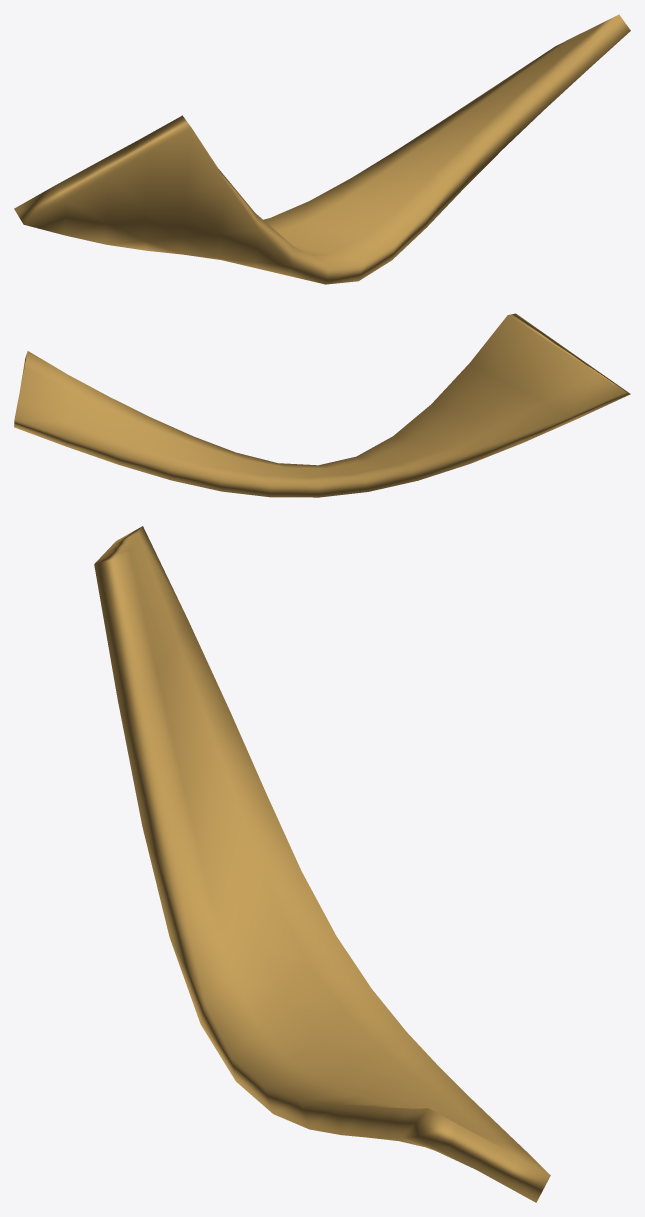
3 views of the same model, one above another, from view 1: azimuth 30°, elevation 25°; view 2: azimuth 150°, elevation 25°; view 3: azimuth 270°, elevation 25° (orthographic). The views are drawn at different scales.
Visible parts, largest first — view 1: 右侧舟三角掌侧韧带; view 2: 右侧舟三角掌侧韧带; view 3: 右侧舟三角掌侧韧带.
Part boxes in pixels (x1,y1,x2,y2): 右侧舟三角掌侧韧带: [14, 14, 630, 284]; 右侧舟三角掌侧韧带: [14, 313, 630, 497]; 右侧舟三角掌侧韧带: [94, 526, 550, 1202].
Bounding box in the file's own units: 0.029 × 0.0096 × 0.0108.
